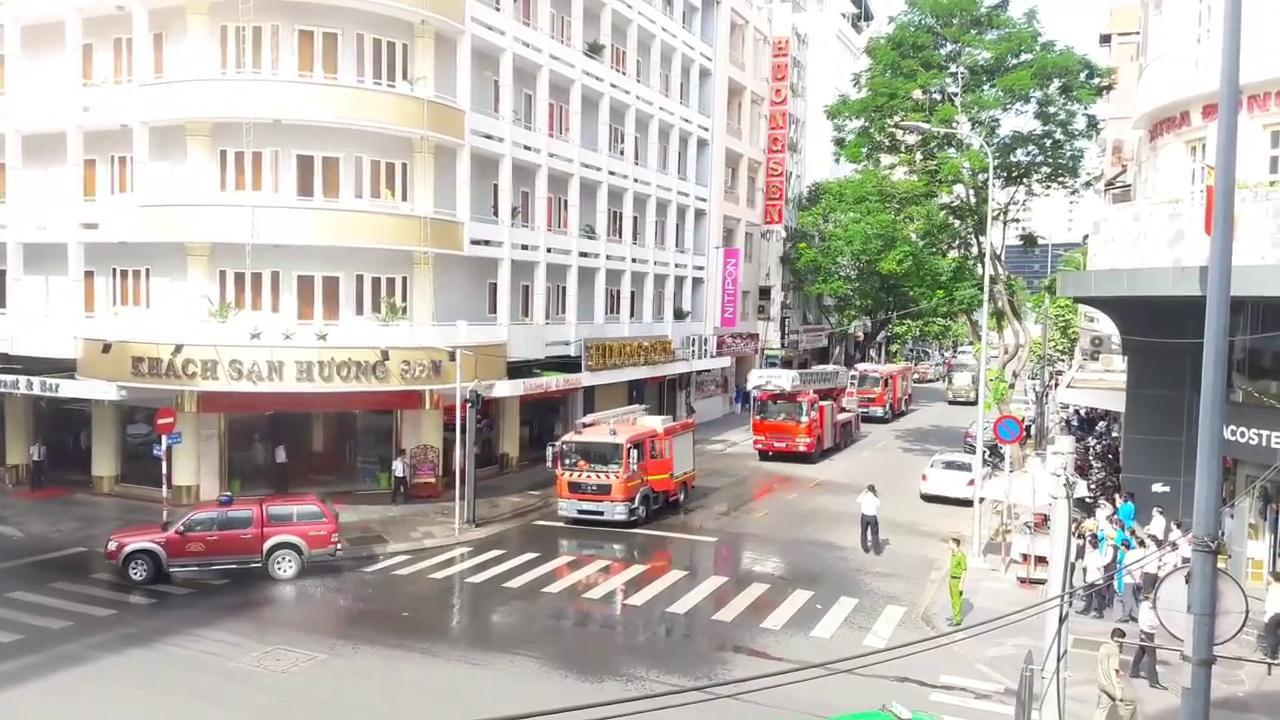xe cuu hoa: (543, 406, 695, 523), (749, 364, 859, 458), (845, 360, 912, 423)
xe hoi: (107, 492, 339, 588), (918, 450, 992, 505), (961, 417, 1006, 454)
